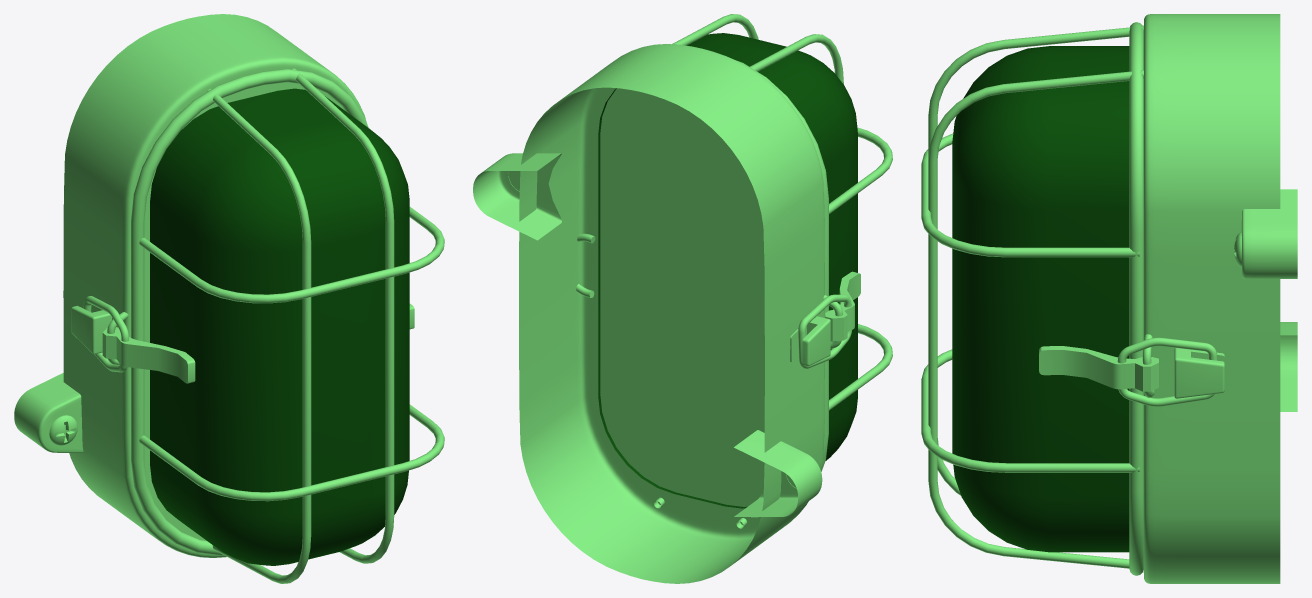
Rendered from Industrial Light(wall).fbx.
3 renders of one model, left to right at view 1: azimuth 30°, elevation 25°; view 2: azimuth 150°, elevation 25°; view 3: azimuth 270°, elevation 25°, orthographic. The views are drawn at different scales.
Visible parts, largest first — view 1: Rectangle001; view 2: Rectangle001; view 3: Rectangle001.
Boxes of the visible parts, <box> form: Rectangle001: <box>14,14,444,583</box>; Rectangle001: <box>473,14,892,583</box>; Rectangle001: <box>921,14,1297,583</box>.
Size of the model in its own units: 145 by 207 by 132.
